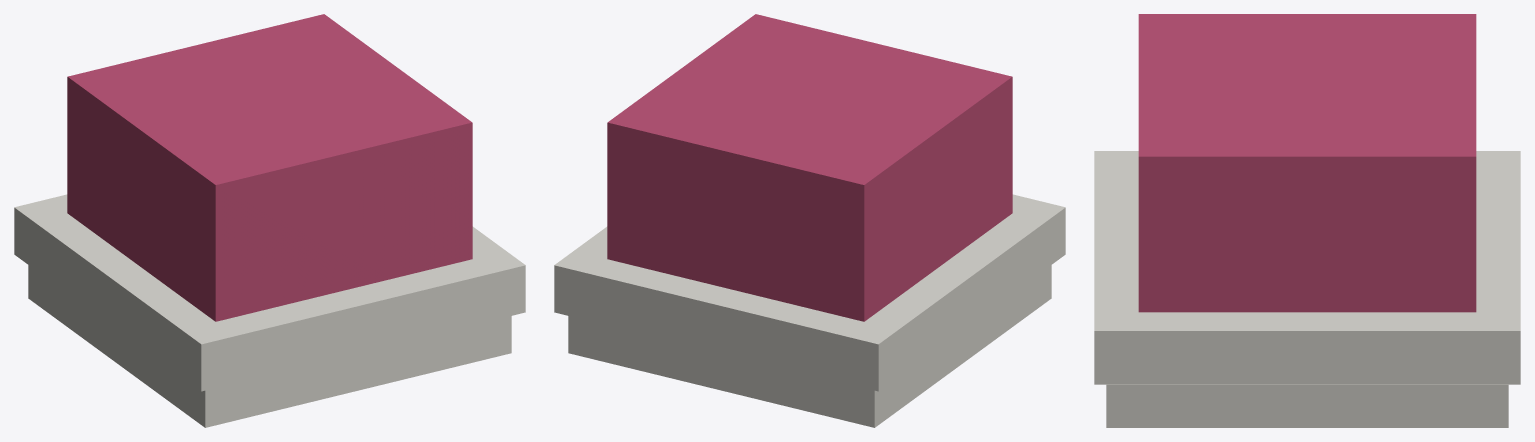
The model's file is bardo_manga_inf.glb.
3 renders of one model, left to right at view 1: azimuth 30°, elevation 25°; view 2: azimuth 150°, elevation 25°; view 3: azimuth 270°, elevation 25°, orthographic. The views are drawn at different scales.
Visible parts, largest first — view 1: bardo_manga_inf; view 2: bardo_manga_inf; view 3: bardo_manga_inf.
Boxes of the visible parts, x1,y1,x2,y2 form: bardo_manga_inf: [14, 14, 525, 427]; bardo_manga_inf: [554, 14, 1065, 427]; bardo_manga_inf: [1094, 14, 1520, 427].
Size of the model in its own units: 0.36 by 0.24 by 0.36.
